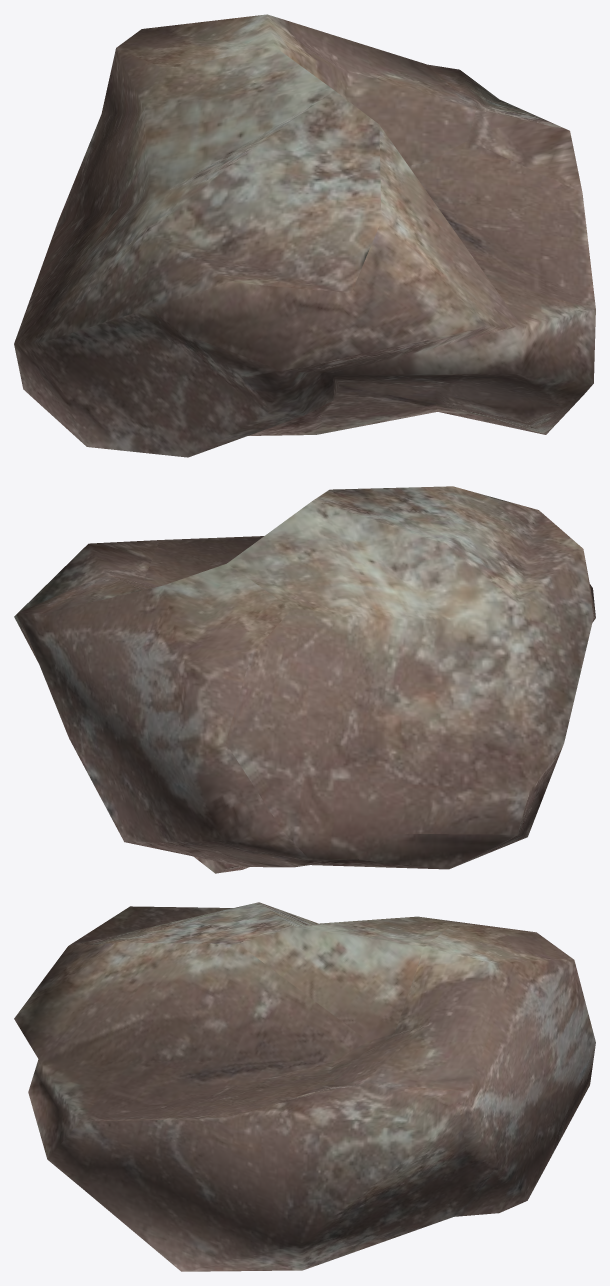
The model's file is rock_scan03.fbx.
The picture shows the model from 3 angles, top to bottom: view 1: azimuth 30°, elevation 25°; view 2: azimuth 150°, elevation 25°; view 3: azimuth 270°, elevation 25°; orthographic projection. The views are drawn at different scales.
Visible parts, largest first — view 1: Rock03_LOD3; view 2: Rock03_LOD3; view 3: Rock03_LOD3.
Part boxes in pixels (<box>): Rock03_LOD3: <box>14,14,595,457</box>; Rock03_LOD3: <box>14,486,595,873</box>; Rock03_LOD3: <box>14,902,595,1271</box>.
Size of the model in its own units: 197 by 120 by 221.
1 material, 1 textured.
